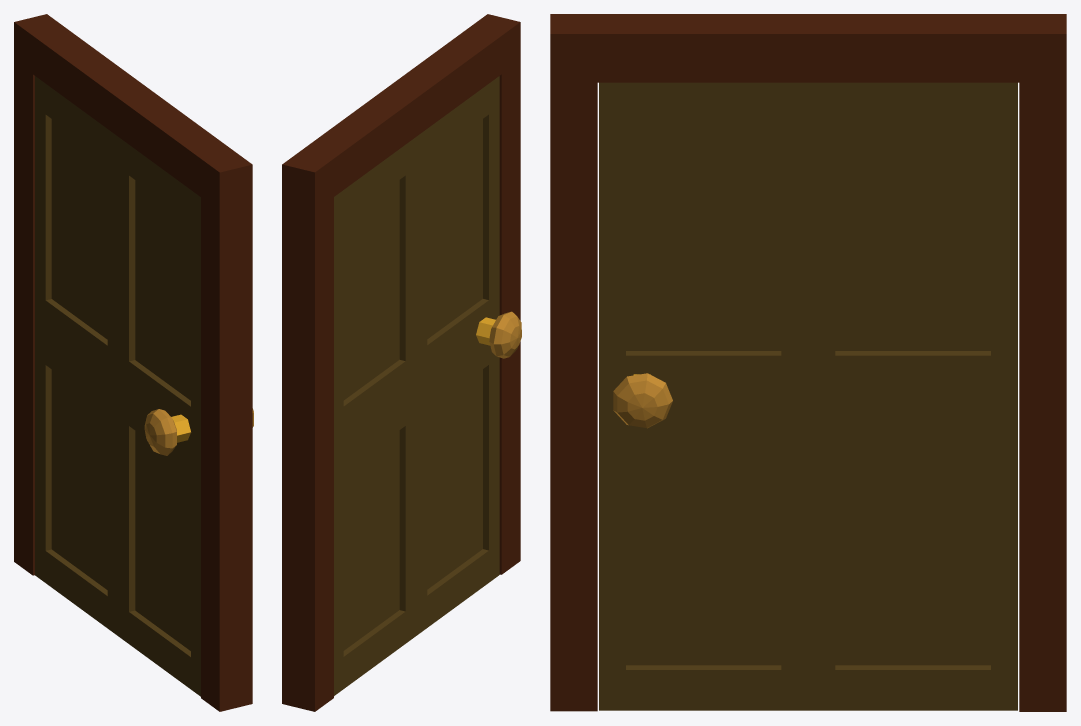
File: Porta1.fbx
The picture shows the model from 3 angles, left to right: view 1: azimuth 30°, elevation 25°; view 2: azimuth 150°, elevation 25°; view 3: azimuth 270°, elevation 25°; orthographic projection. The views are drawn at different scales.
Visible parts, largest first — view 1: Porta, Batente, Manaceta_ponta; view 2: Porta, Batente, Manaceta_ponta; view 3: Porta, Batente, Manaceta_ponta.
Boxes of the visible parts, x1,y1,x2,y2 form: Porta: (35, 76, 200, 696); Batente: (14, 14, 252, 711); Manaceta_ponta: (144, 408, 253, 455); Porta: (334, 76, 499, 695); Batente: (282, 14, 520, 711); Manaceta_ponta: (489, 311, 521, 358); Porta: (599, 82, 1017, 710); Batente: (550, 14, 1066, 711); Manaceta_ponta: (613, 373, 672, 428).
Size of the model in its own units: 208 by 1069 by 738.
